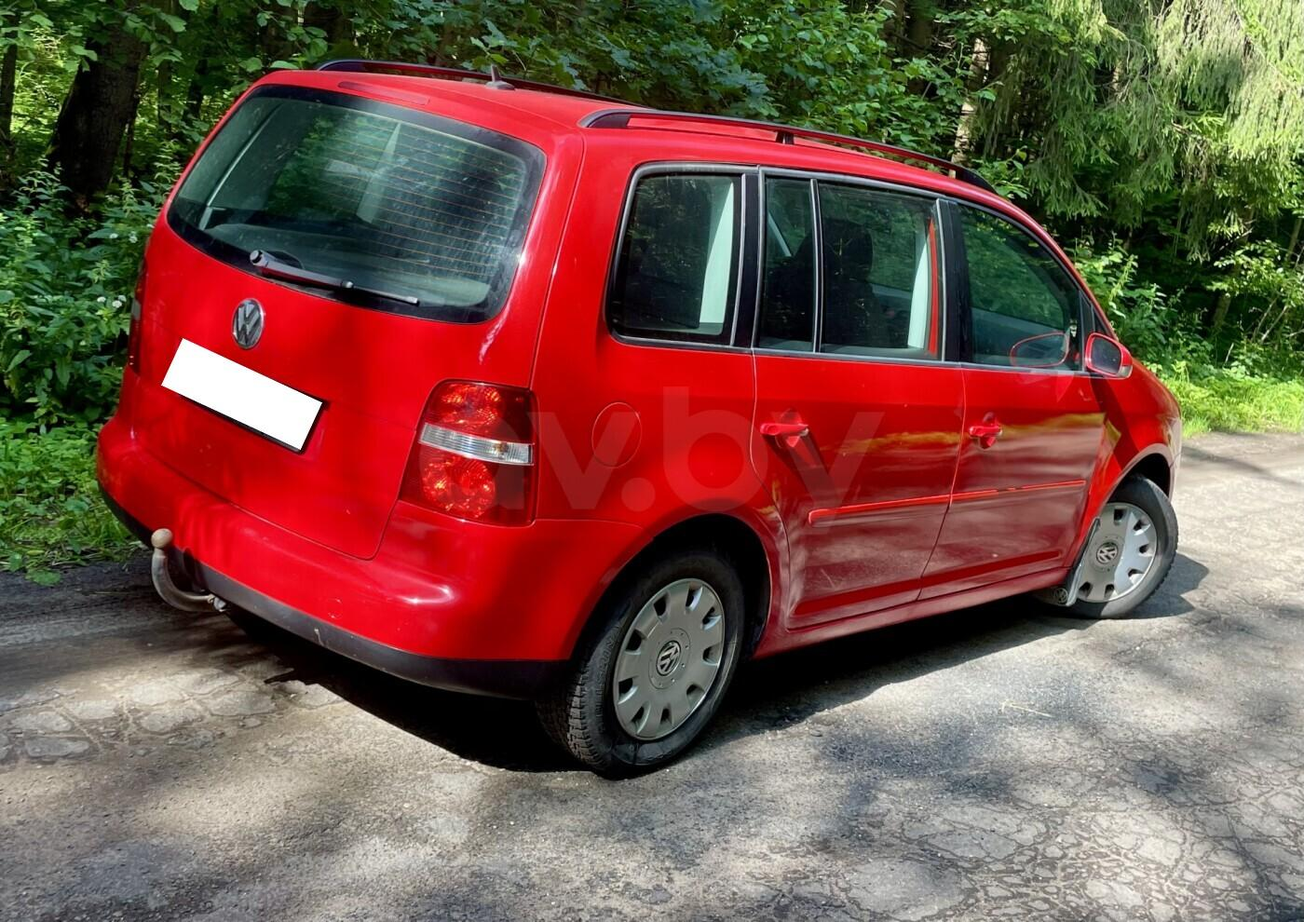Touran_2003-2006: (86, 66, 1186, 775)
